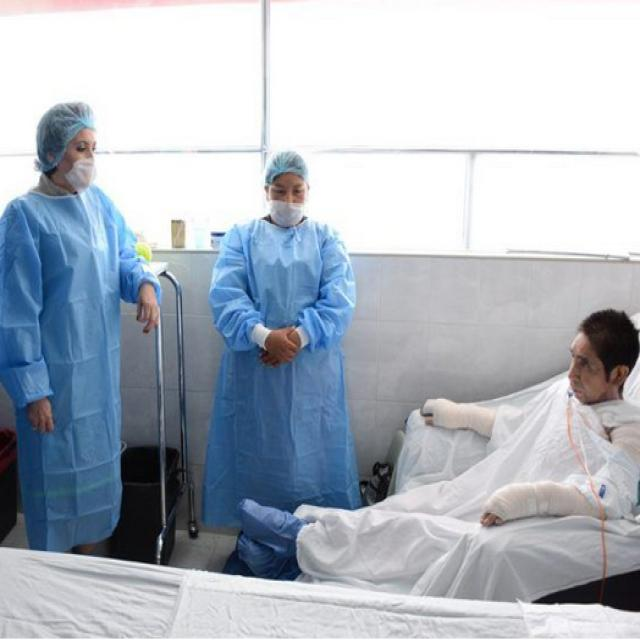mask: (45, 139, 110, 206), (260, 186, 308, 238)
